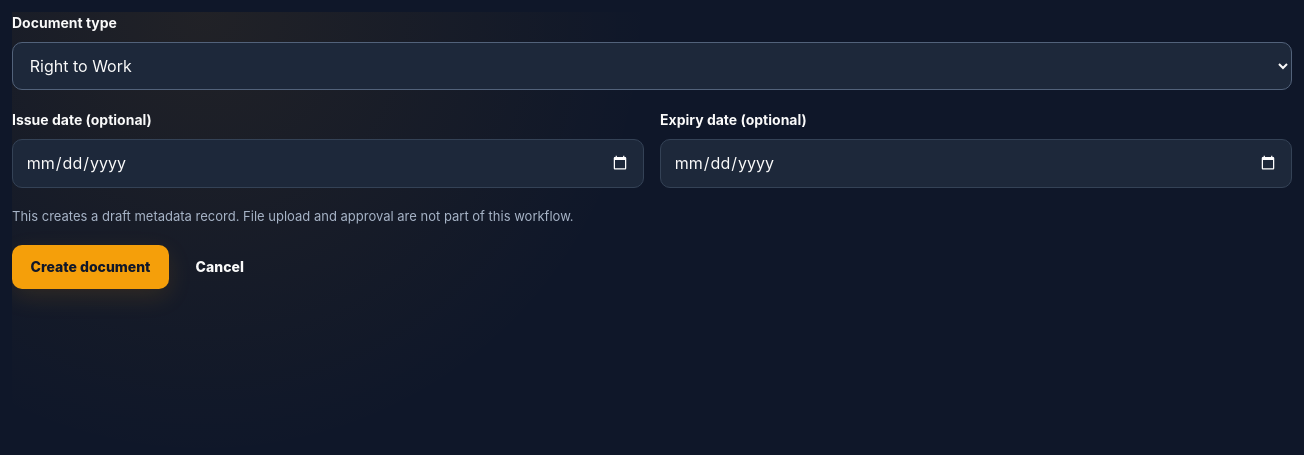
Test: ComplianceDocumentForm › maps safe field errors and preserves entered values
The width and height of the screenshot is (1304, 455).
Type "2026-08-01" into the date field labelled "Issue date (optional)".
click(328, 163); type("2026-08-01")  # box [12,139,644,188]
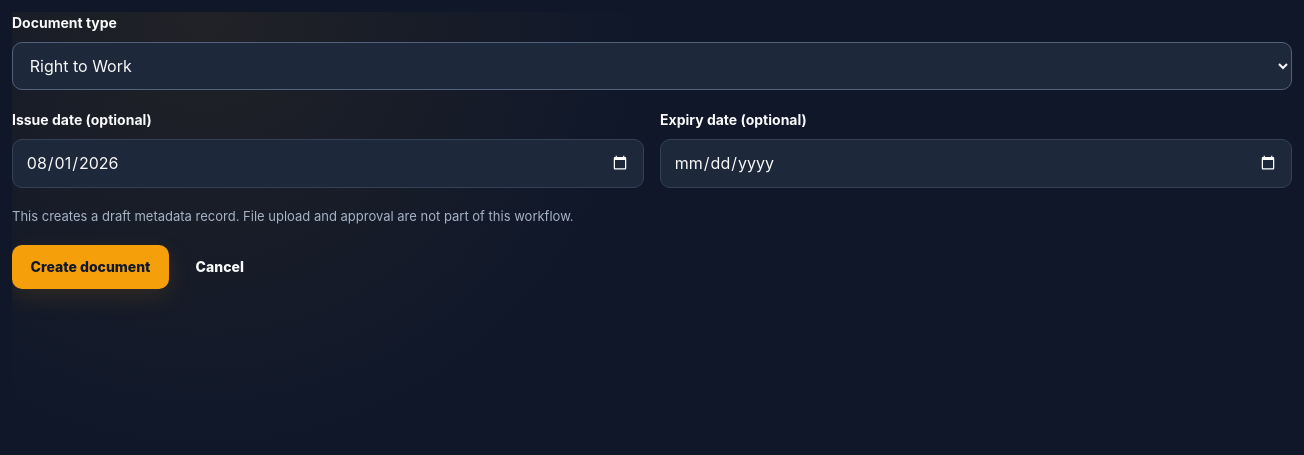
Type "2027-08-01" into the date field labelled "Expiry date (optional)".
click(976, 163); type("2027-08-01")  # box [660,139,1292,188]
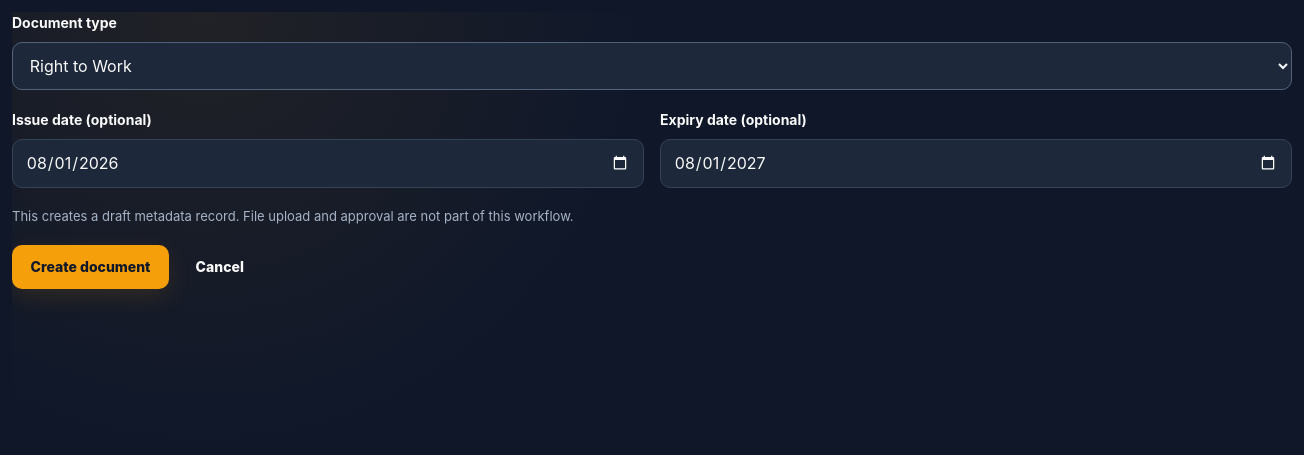
Submit the form named "Create document", box [12,12,1292,289]
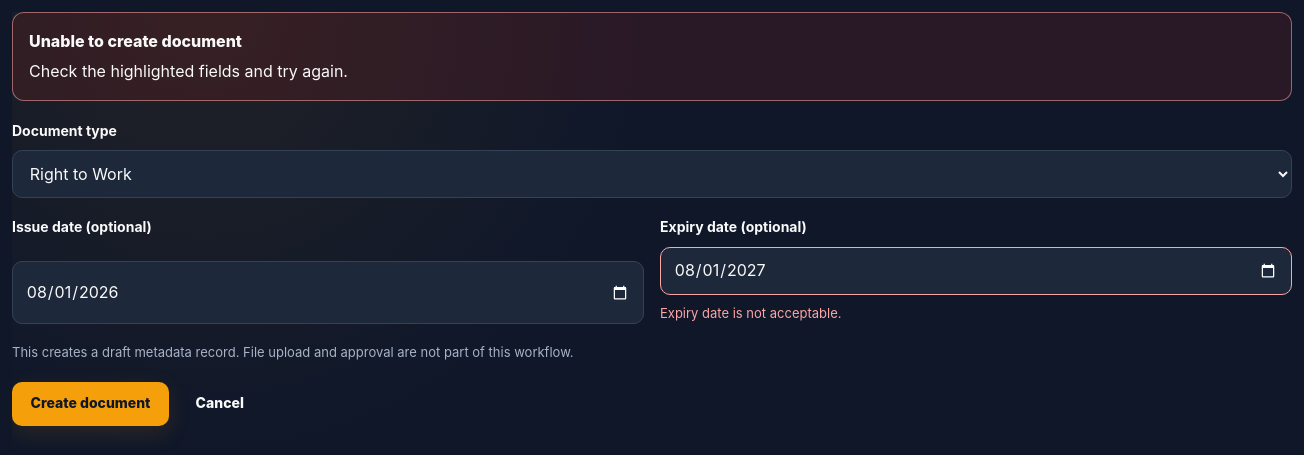
expect the text "Expiry date is not acceptable." is shown: met, box [660,305,842,321]
